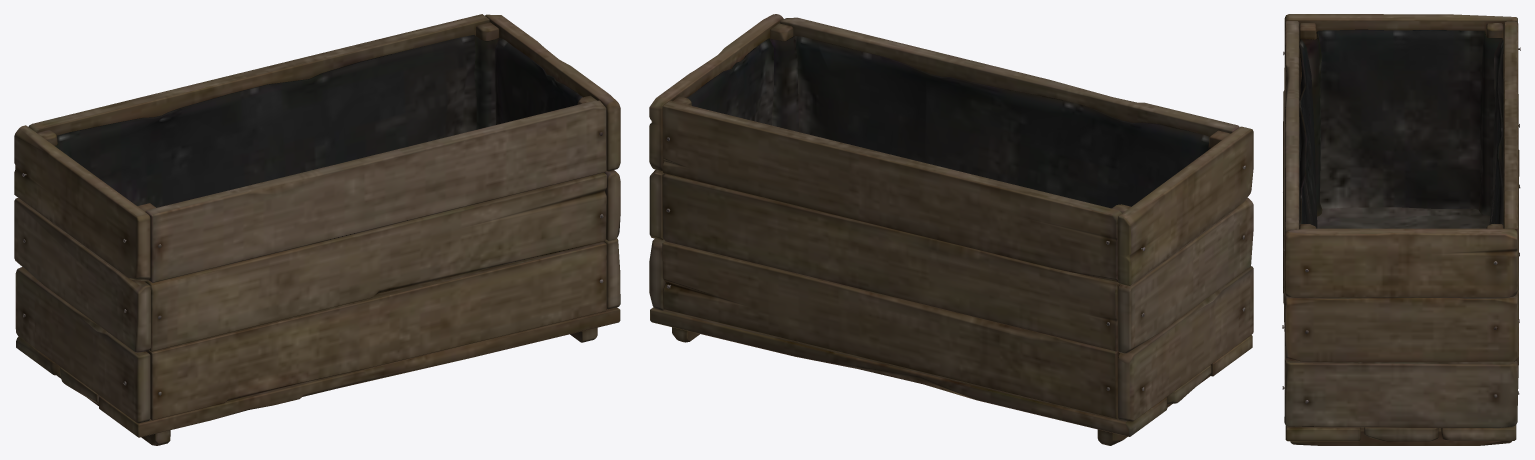
Rendered from planter-box-01.glb.
The picture shows the model from 3 angles, left to right: view 1: azimuth 30°, elevation 25°; view 2: azimuth 150°, elevation 25°; view 3: azimuth 270°, elevation 25°; orthographic projection. The views are drawn at different scales.
Visible parts, largest first — view 1: planter_box_01; view 2: planter_box_01; view 3: planter_box_01.
Part boxes in pixels (left/top/right/bottom): planter_box_01: left=14, top=14, right=620, bottom=445; planter_box_01: left=649, top=14, right=1253, bottom=445; planter_box_01: left=1282, top=14, right=1520, bottom=445.
Size of the model in its own units: 0.9126 by 0.425 by 0.4137.
1 material, 1 textured.
